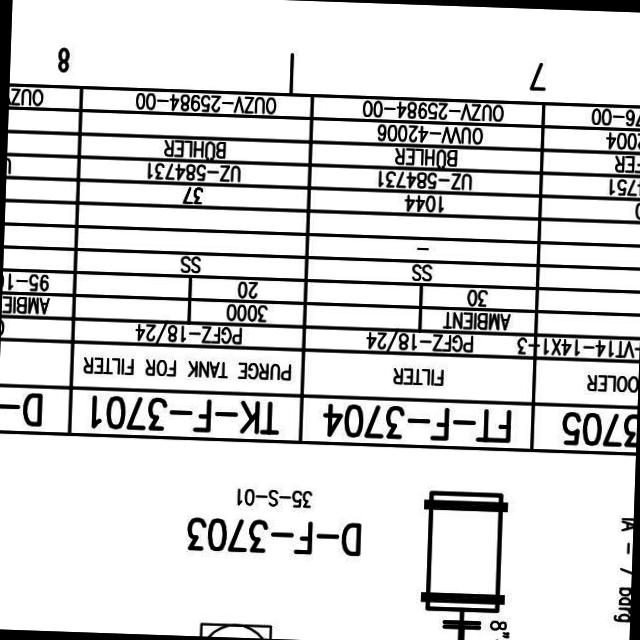D2: (418, 486, 510, 618)
